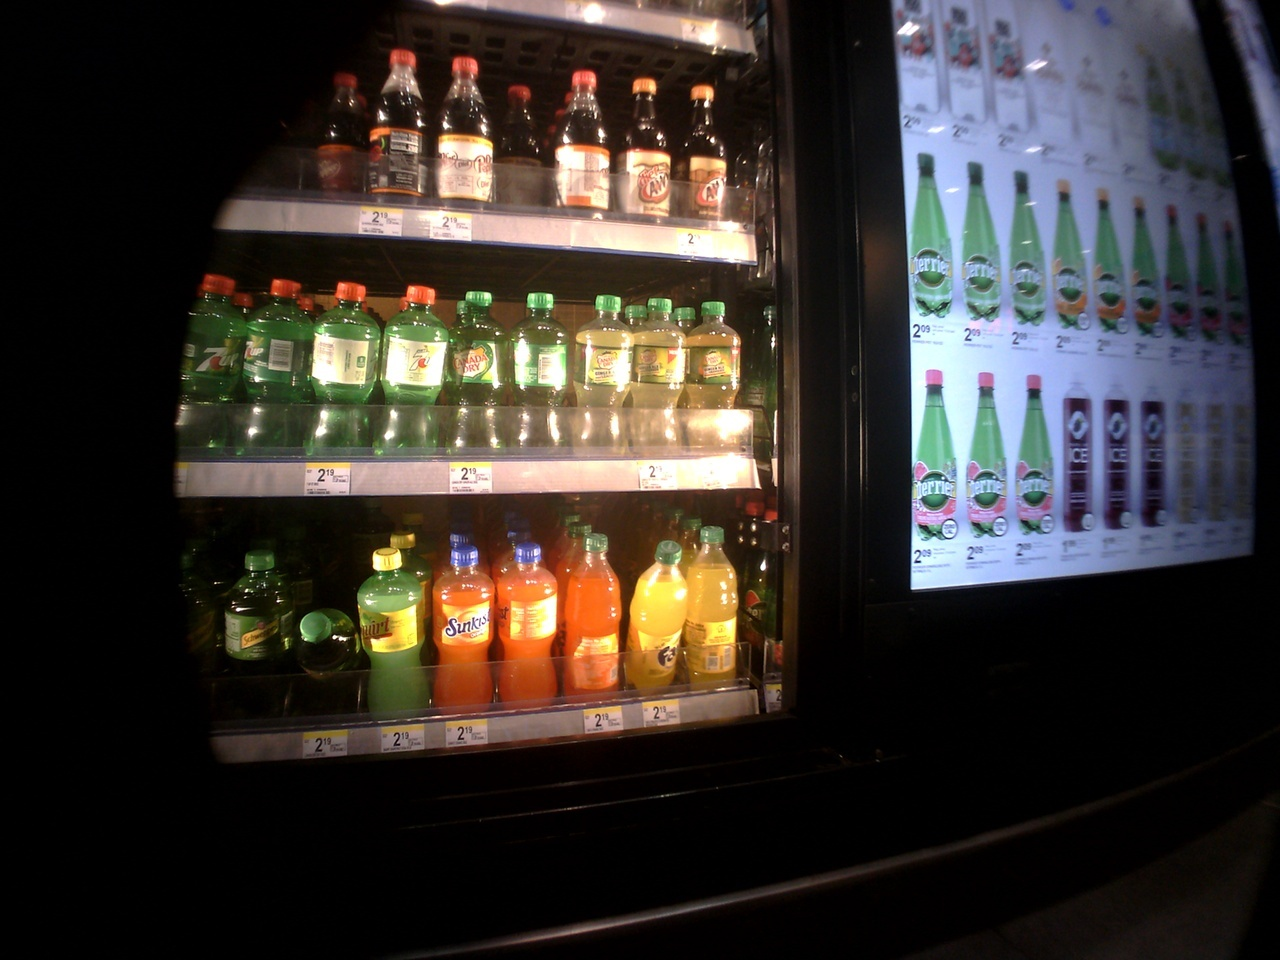shelf: (166, 495, 782, 736), (155, 252, 746, 498), (198, 34, 762, 271)
